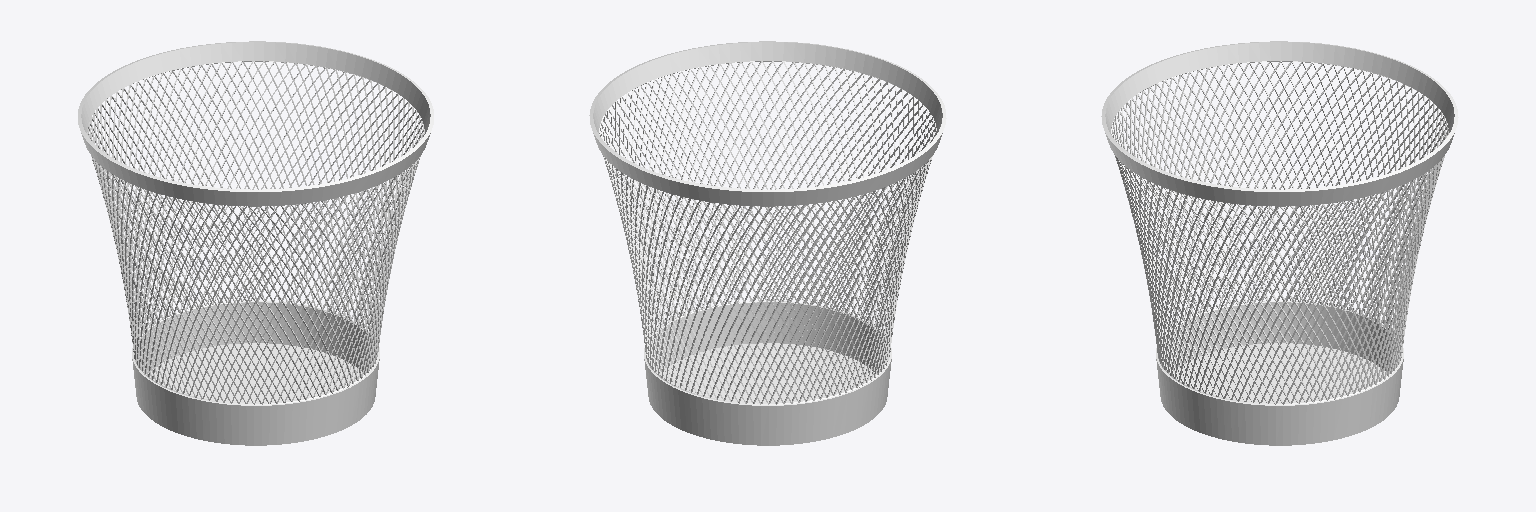
File: trash_can.obj
3 views of the same model, side by side, from view 1: azimuth 30°, elevation 25°; view 2: azimuth 150°, elevation 25°; view 3: azimuth 270°, elevation 25° (orthographic).
Visible parts, largest first — view 1: trash_can; view 2: trash_can; view 3: trash_can.
Part boxes in pixels (x1,y1,x2,y2): trash_can: (78,41,433,445); trash_can: (589,41,946,445); trash_can: (1101,41,1458,445).
Size of the model in its own units: 0.4814 by 0.4172 by 0.4814.